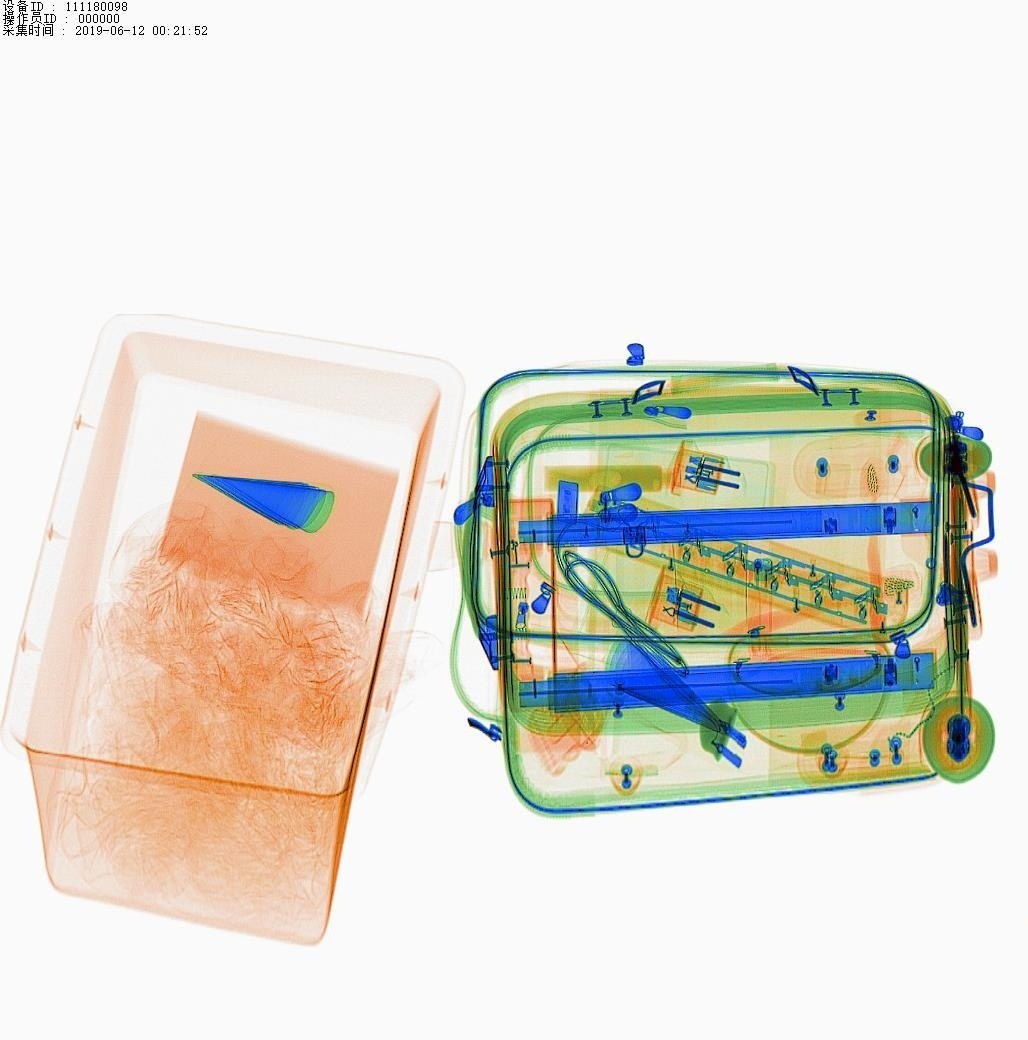NonmetallicFire: (715, 535, 795, 687)
